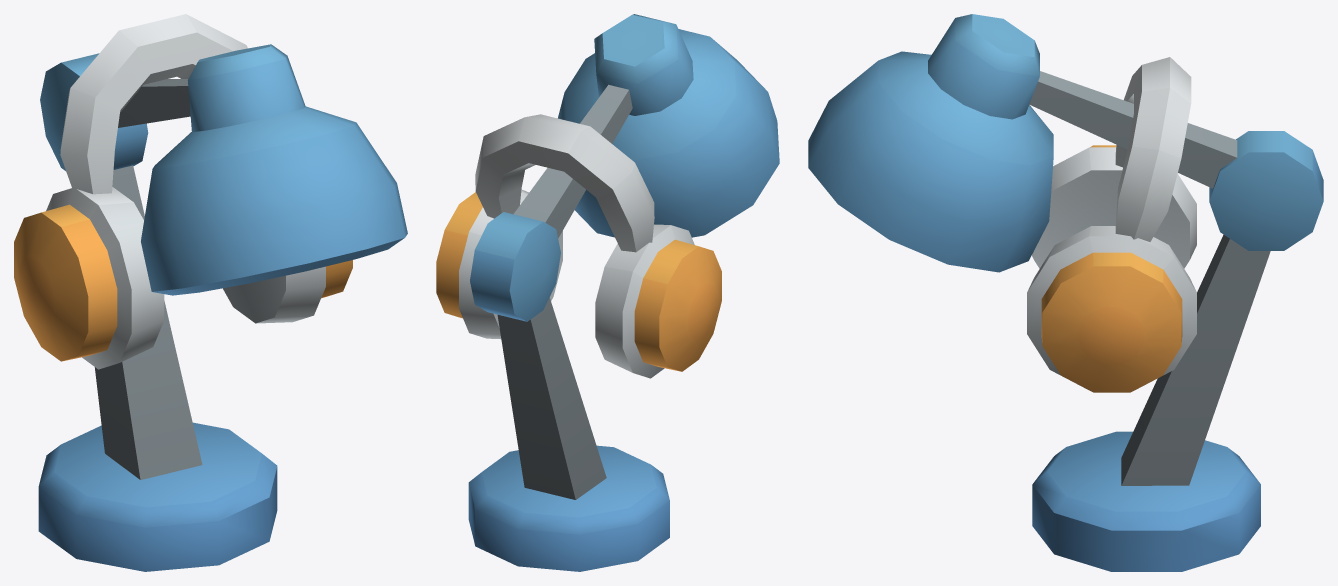
File: lamp_desk_headphones.glb
3 views of the same model, side by side, from view 1: azimuth 30°, elevation 25°; view 2: azimuth 150°, elevation 25°; view 3: azimuth 270°, elevation 25° (orthographic). The views are drawn at different scales.
Visible parts, largest first — view 1: lamp_desk_headphones; view 2: lamp_desk_headphones; view 3: lamp_desk_headphones.
Part boxes in pixels (bbox=[...]): lamp_desk_headphones: bbox=[14, 14, 407, 571]; lamp_desk_headphones: bbox=[436, 14, 779, 571]; lamp_desk_headphones: bbox=[808, 14, 1323, 571].
Bounding box in the file's own units: 0.7002 × 1.18 × 1.1.
Materials: 1 (1 with a texture image).
